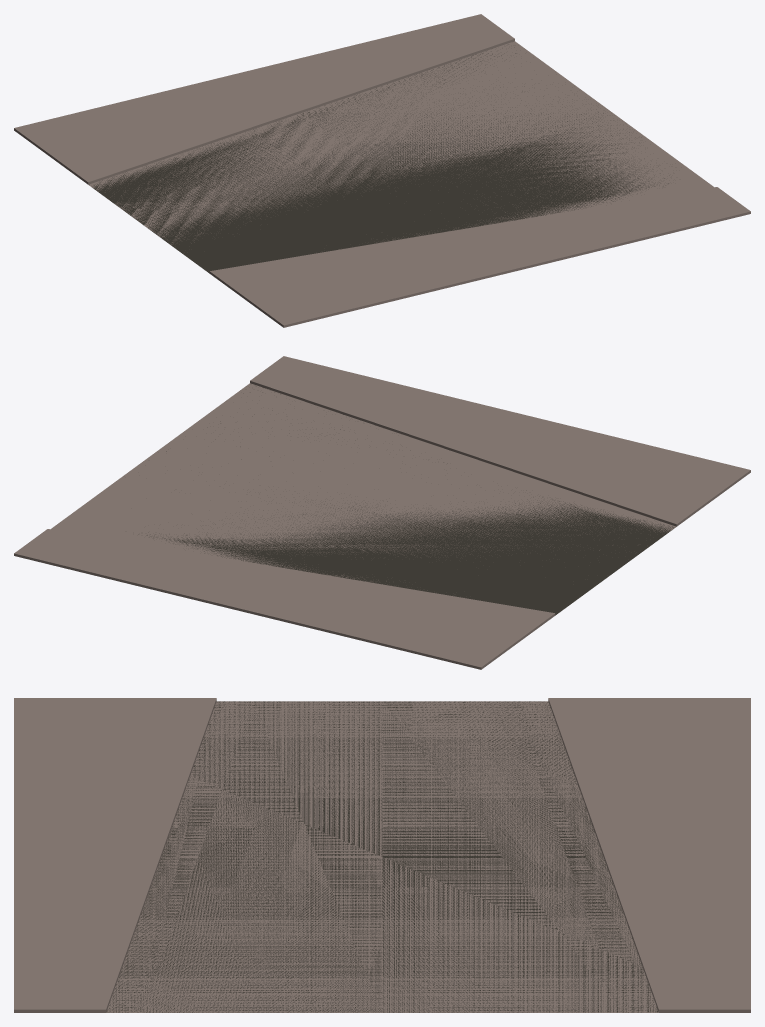
File: Env_2lane_To_1lane.fbx
3 views of the same model, one above another, from view 1: azimuth 30°, elevation 25°; view 2: azimuth 150°, elevation 25°; view 3: azimuth 270°, elevation 25° (orthographic). The views are drawn at different scales.
Parts seen in each view (by area): view 1: Env_2lane_To_1lane; view 2: Env_2lane_To_1lane; view 3: Env_2lane_To_1lane.
Part boxes in pixels (box(x1,y1,x2,y2)): Env_2lane_To_1lane: box(14, 14, 750, 327); Env_2lane_To_1lane: box(14, 356, 750, 669); Env_2lane_To_1lane: box(14, 698, 750, 1012).
Bounding box in the file's own units: 2000 × 10 × 2000.
